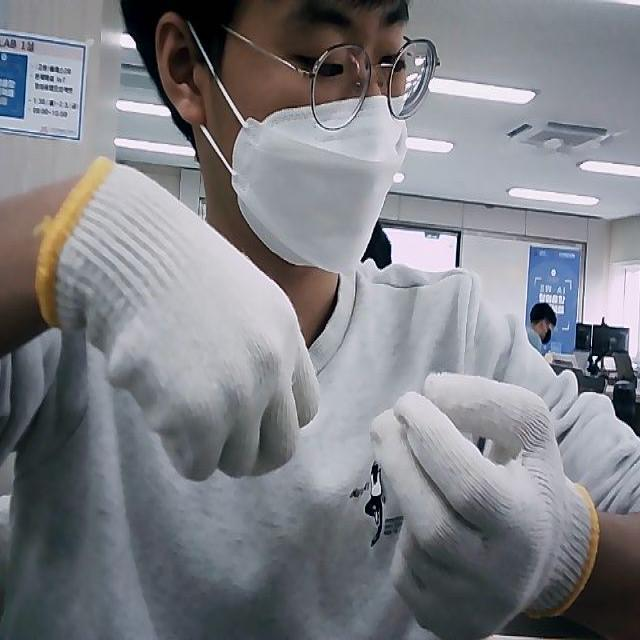gloves: (35, 156, 320, 482), (369, 368, 601, 639)
